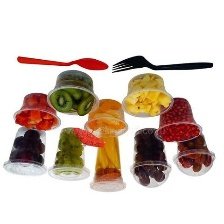glass: (44, 67, 106, 119), (127, 125, 173, 190), (44, 125, 91, 185), (1, 123, 50, 179), (118, 72, 175, 120), (169, 126, 219, 180), (87, 128, 126, 197), (150, 96, 201, 145), (10, 87, 63, 133), (77, 97, 131, 140)
